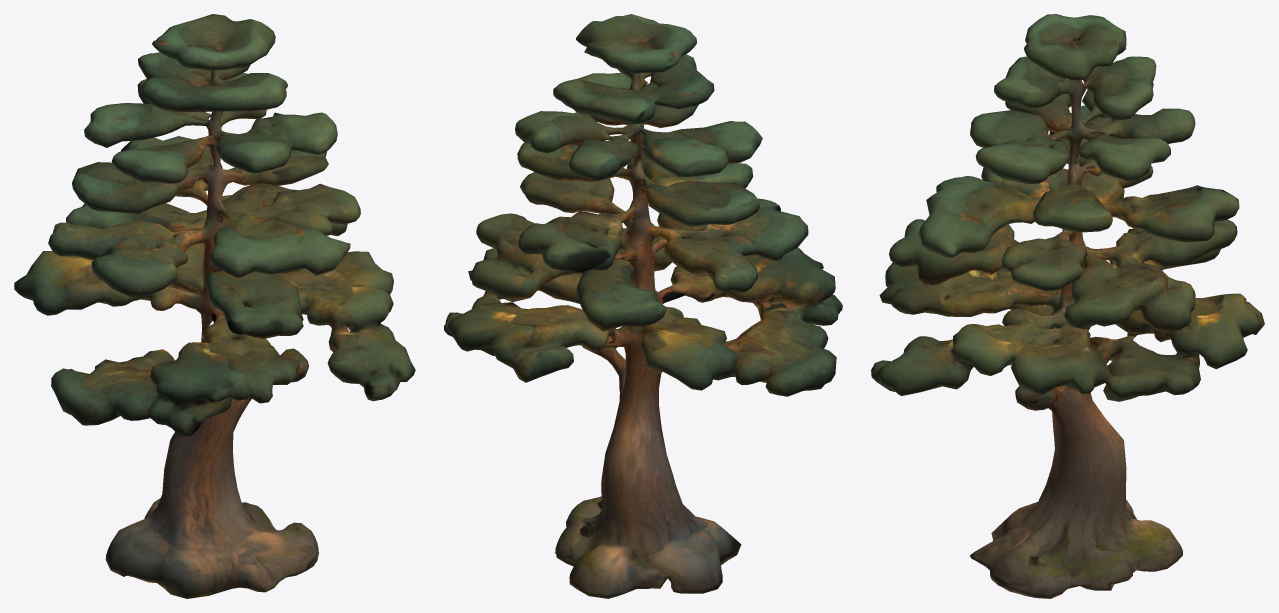
The model's file is tree_pine_05.fbx.
3 views of the same model, side by side, from view 1: azimuth 30°, elevation 25°; view 2: azimuth 150°, elevation 25°; view 3: azimuth 270°, elevation 25° (orthographic).
Visible parts, largest first — view 1: PineTree_03; view 2: PineTree_03; view 3: PineTree_03.
Part boxes in pixels (left/top/right/bottom): PineTree_03: left=14, top=14, right=415, bottom=598; PineTree_03: left=444, top=14, right=842, bottom=598; PineTree_03: left=871, top=14, right=1264, bottom=598.
Bounding box in the file's own units: 487 × 729 × 490.
Materials: 1 (1 with a texture image).
